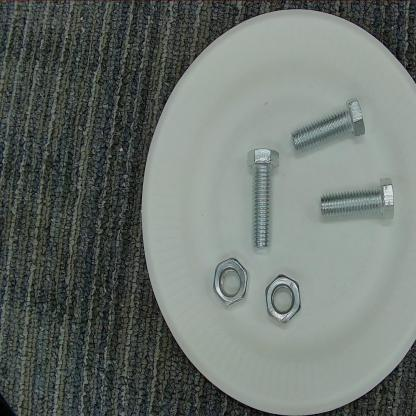FOD: (284, 93, 371, 160), (244, 140, 279, 264), (314, 175, 399, 226), (210, 250, 255, 318), (260, 272, 308, 330)
